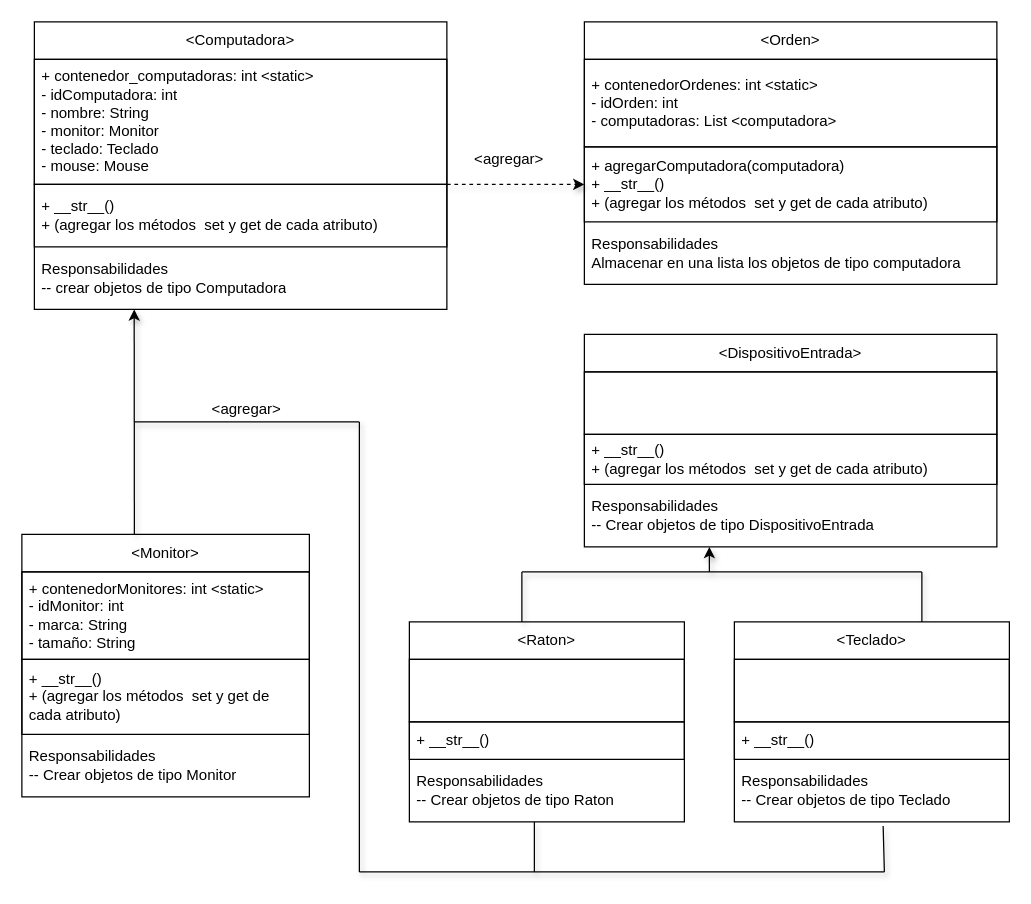
Some shapes in this 1031 by 904 pixel diagram are drawn without their labels. The shapes that lost their labels are listed below. From the top down, each one's centre as x and y in pixels, then its label:
At (x=790, y=402): "# tipoEntrada: String # marca: String".
At (x=546, y=690): "+ contadorRatones: int <static> - idRaton: int".
At (x=871, y=690): "+ contadorTeclado: int <static> - idTeclado: int".
